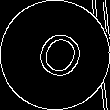O_SW: (24, 23, 86, 87)
